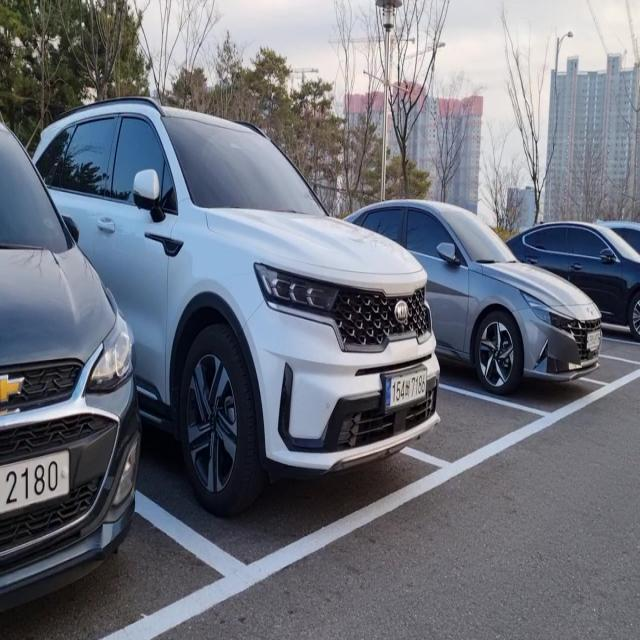empty: (425, 297, 559, 480)
occupied: (36, 106, 452, 594), (366, 194, 610, 420)
